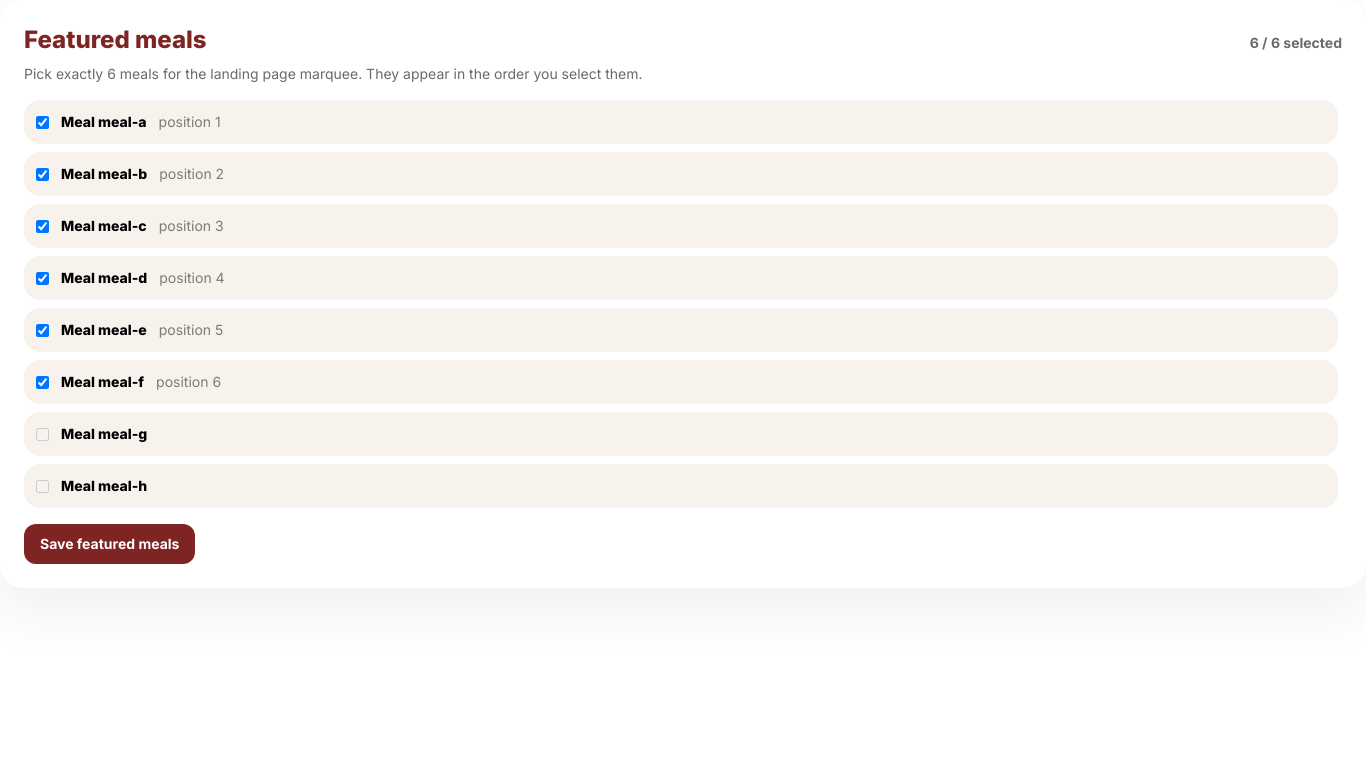
Test: FeaturedMealsPanel › surfaces the backend's unknown_meal_slugs message verbatim
What coordinates should you click on to do the following:
click the button "Save featured meals"
I would click on:
 (110, 544)
Its box is [24,524,195,564].
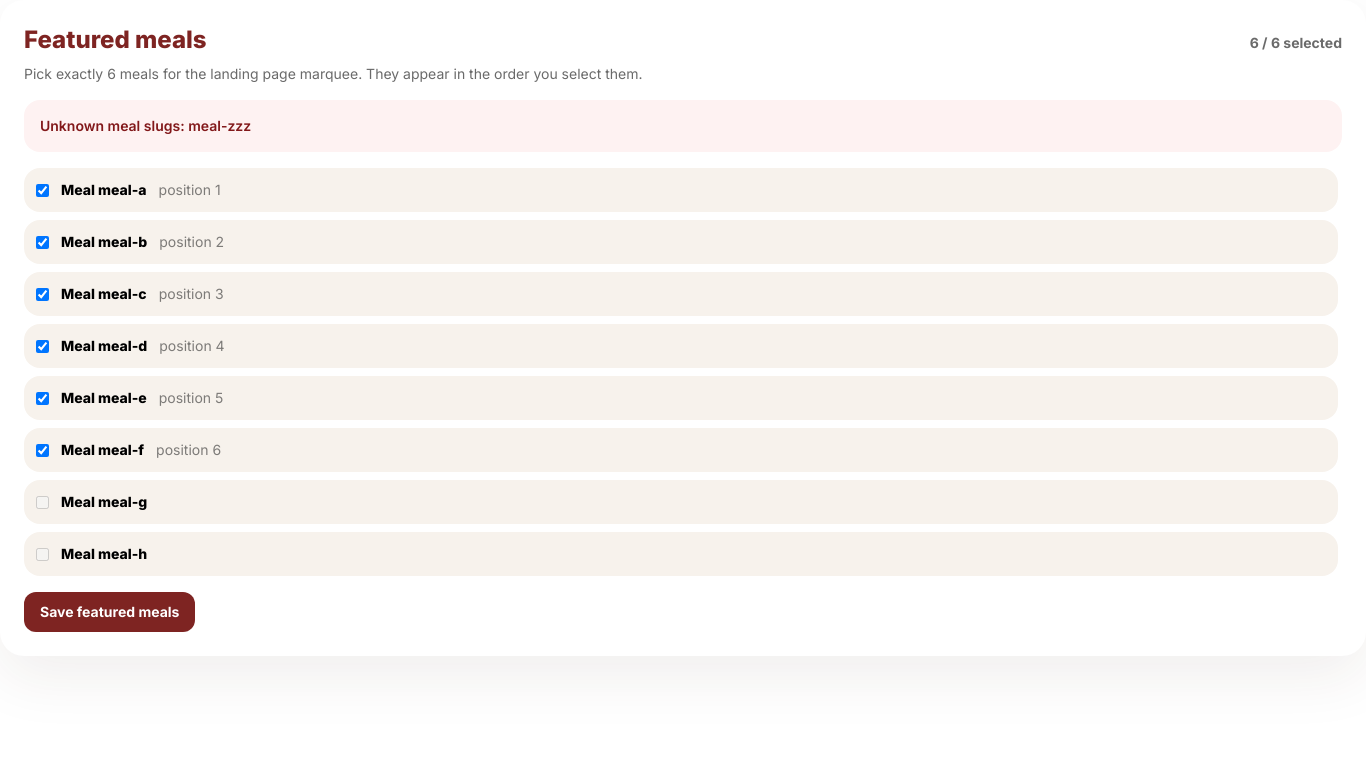
Now the message reads "Unknown meal slugs: meal-zzz", box [40,117,251,134]
